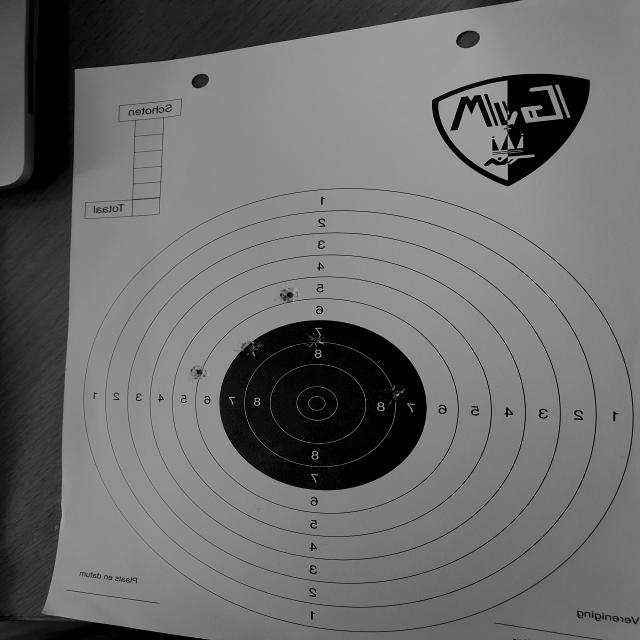6: (273, 286, 302, 306), (185, 363, 210, 383)
7: (236, 340, 262, 360)
8: (376, 382, 406, 404), (301, 329, 329, 349)
Target: (84, 185, 633, 633)
black_contour: (219, 319, 426, 492)
